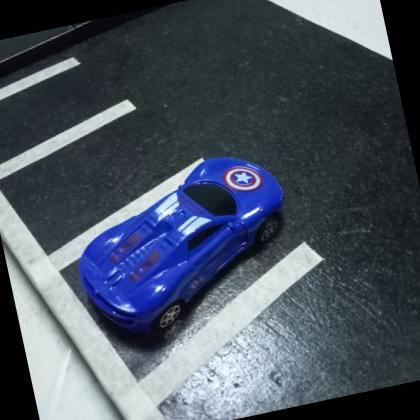Car: (60, 142, 308, 346)
